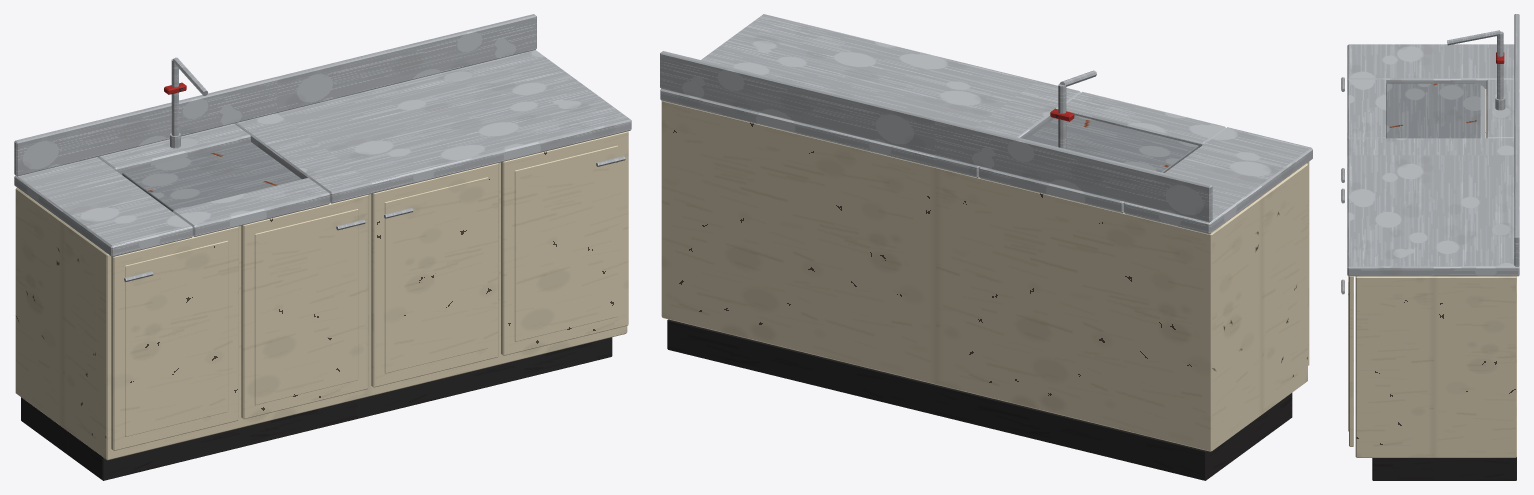
File: kitchen_unit.glb
3 views of the same model, side by side, from view 1: azimuth 30°, elevation 25°; view 2: azimuth 150°, elevation 25°; view 3: azimuth 270°, elevation 25° (orthographic). The views are drawn at different scales.
Visible parts, largest first — view 1: p; view 2: p; view 3: p.
Part boxes in pixels (box(x1,y1,x2,y2)): p: box(14, 14, 631, 480); p: box(660, 14, 1312, 480); p: box(1341, 14, 1519, 480).
Size of the model in its own units: 1.9 by 1.17 by 0.642.
5 materials, 5 textured.
